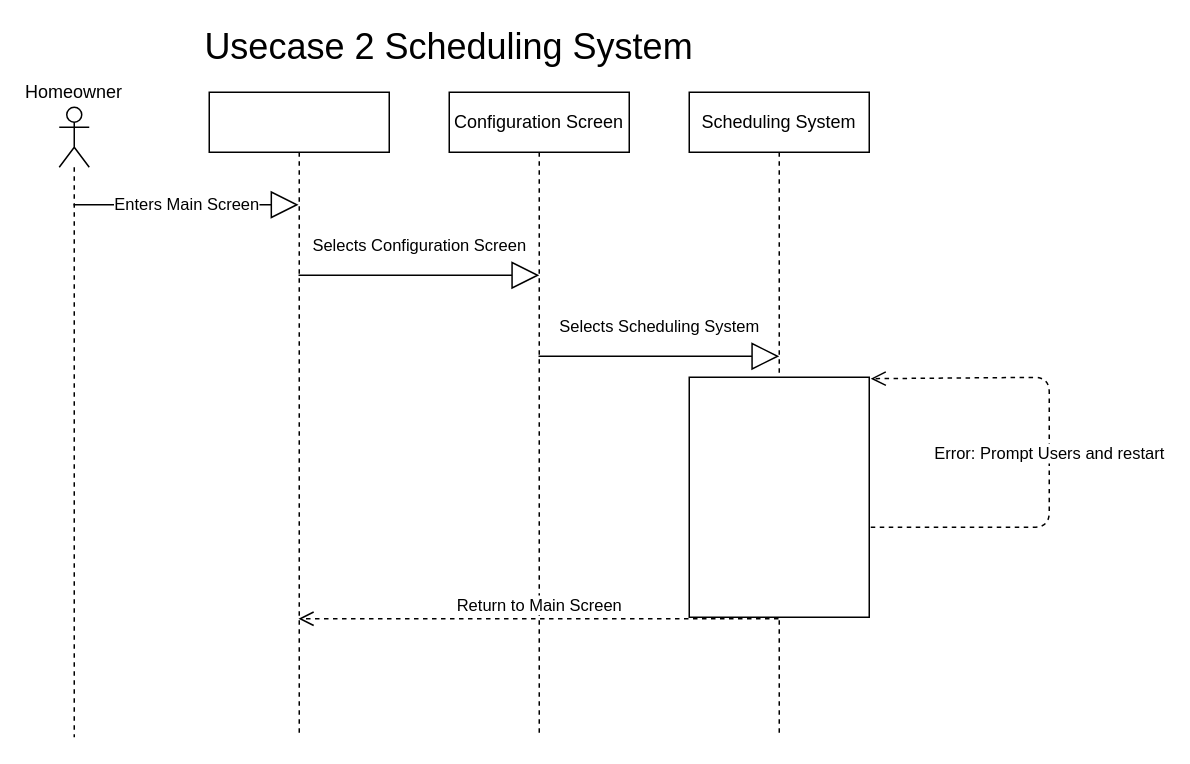
Some shapes in this 1190 by 764 pixel diagram are drawn without their labels. Here are the shapes that lost their labels. From the top down, the box of each, then its label:
(208, 91, 389, 737): Main Screen
(688, 376, 869, 617): Enter Dates and Times
